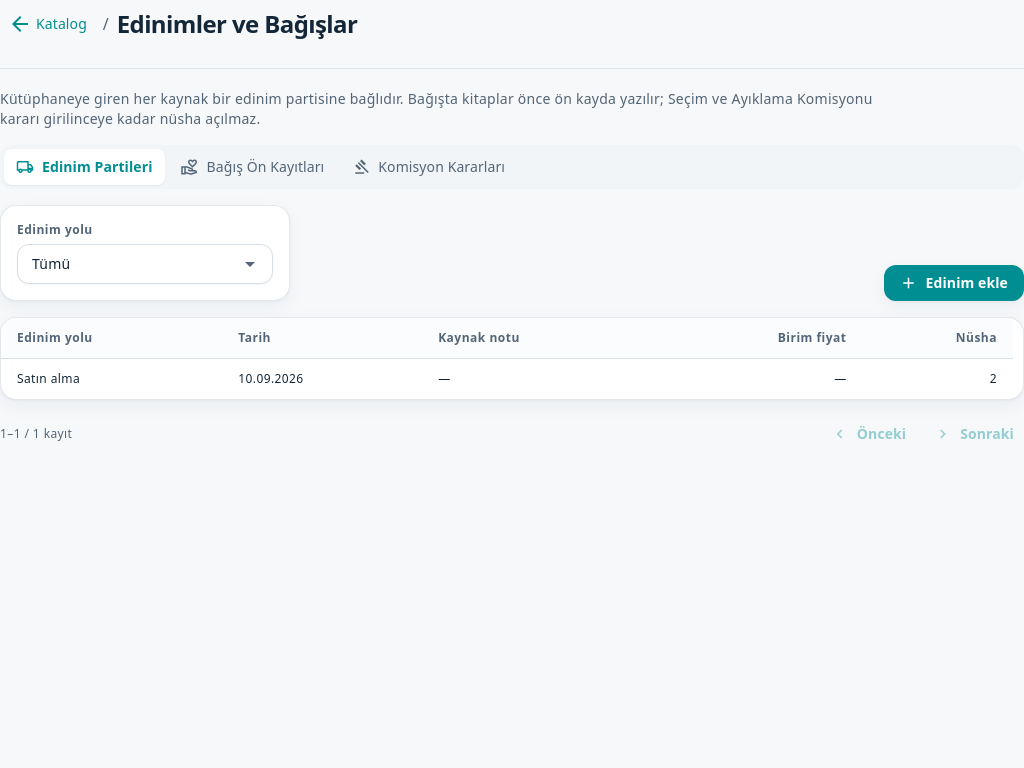
Bağış ön kayıtları › ön kayıtları listeler ve ayrıntısında kalemleri gösterir
Expected: the table is shown, x1=1 y1=318 x2=1013 y2=399
Click the tab "Bağış Ön Kayıtları". click: [252, 167]
box: x1=169 y1=149 x2=336 y2=185
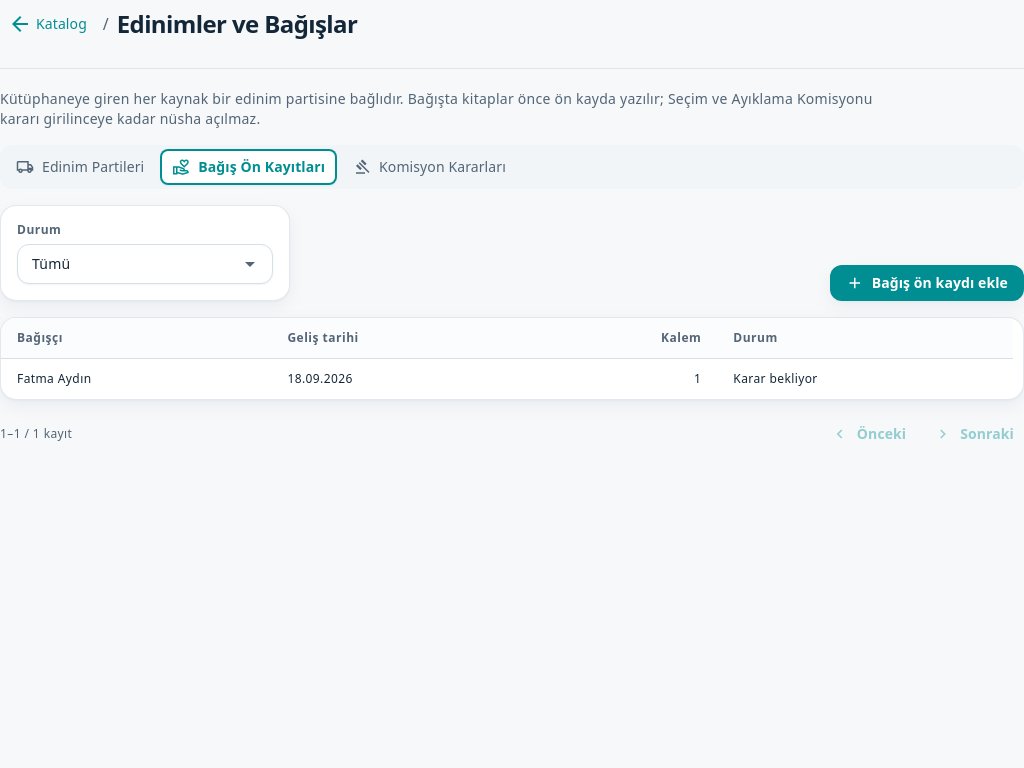
Click the button with aria-label "bağış ön kaydını aç". click: [54, 378]
box: x1=1 y1=358 x2=1013 y2=399
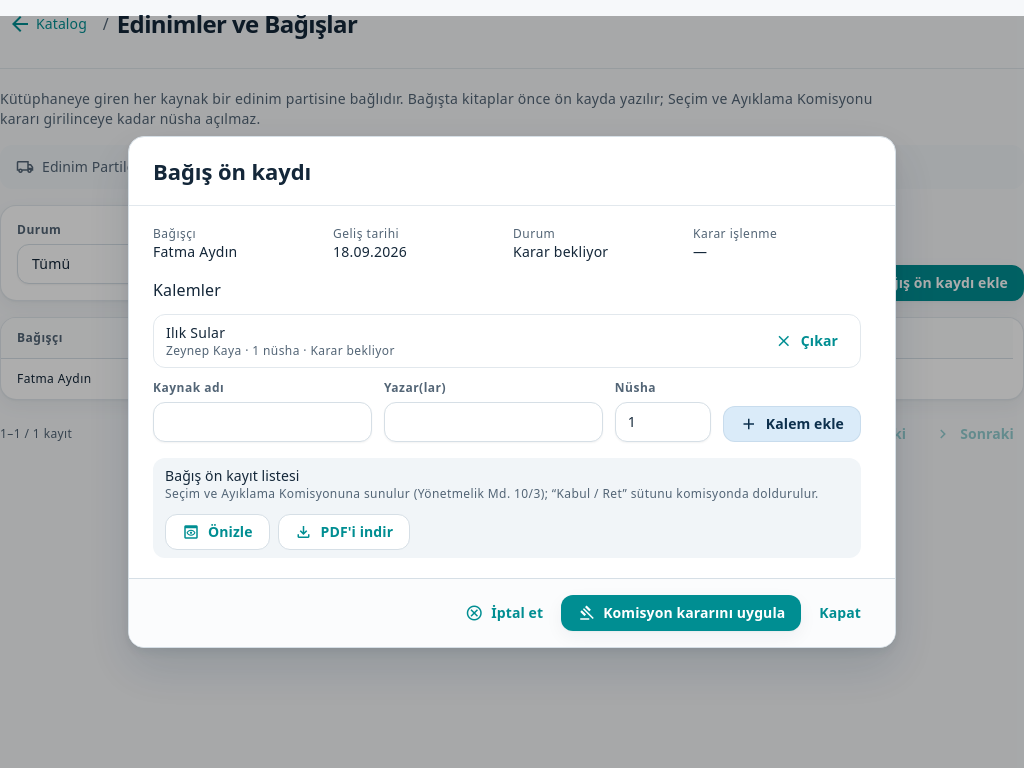
Result: the text "Ilık Sular" is shown at x1=166 y1=323 x2=225 y2=342
